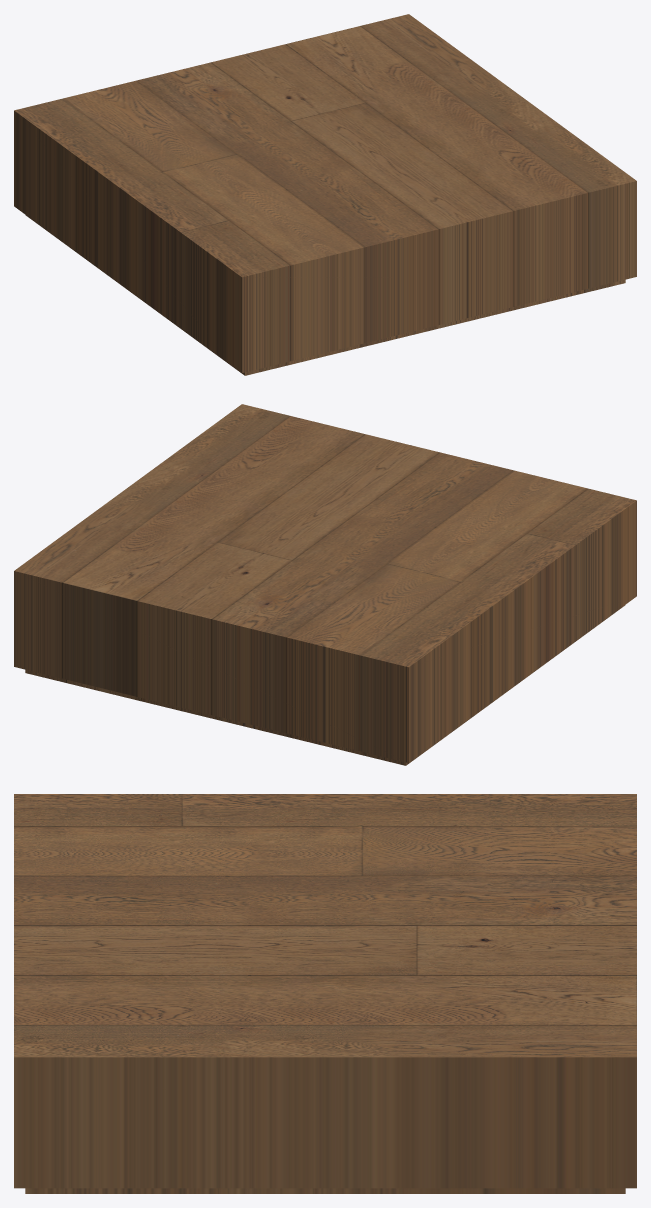
The model's file is floor.glb.
3 views of the same model, one above another, from view 1: azimuth 30°, elevation 25°; view 2: azimuth 150°, elevation 25°; view 3: azimuth 270°, elevation 25° (orthographic). The views are drawn at different scales.
Visible parts, largest first — view 1: FloorPanel.004; view 2: FloorPanel.004; view 3: FloorPanel.004.
Part boxes in pixels (<box>): FloorPanel.004: <box>14,14,636,375</box>; FloorPanel.004: <box>14,404,636,765</box>; FloorPanel.004: <box>14,794,636,1193</box>.
Size of the model in its own units: 1 by 0.25 by 1.
1 material, 1 textured.
